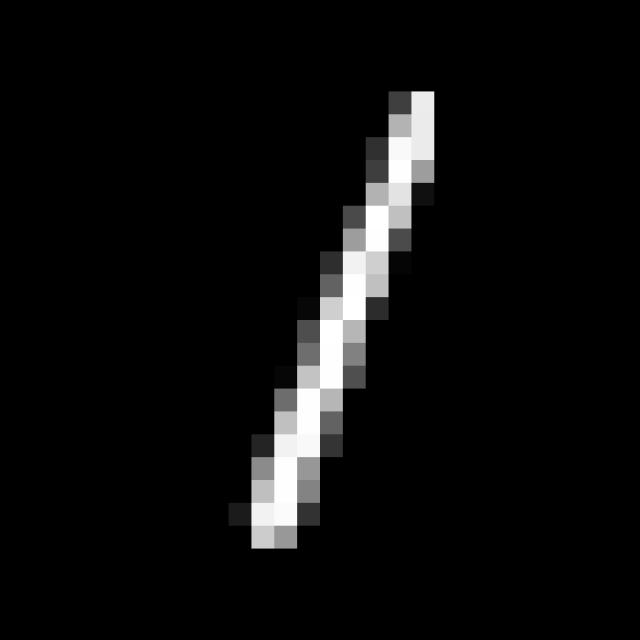one -1-: (226, 78, 457, 575)
